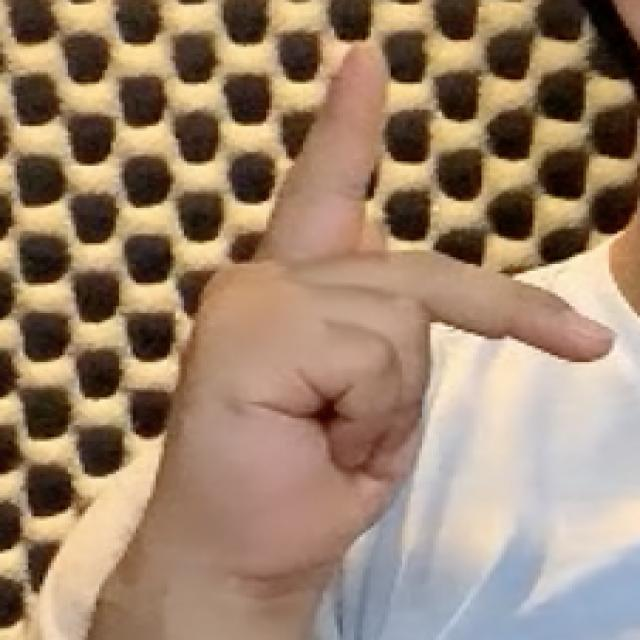P: (105, 32, 620, 600)
